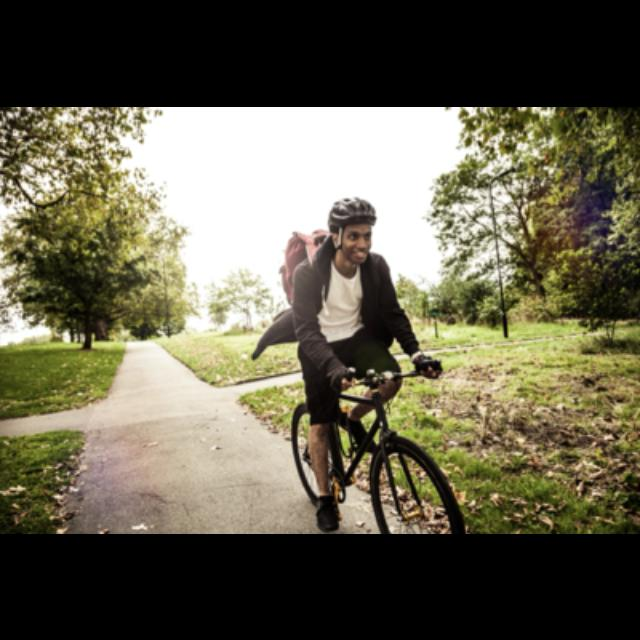With Helmet: (326, 189, 379, 269)
